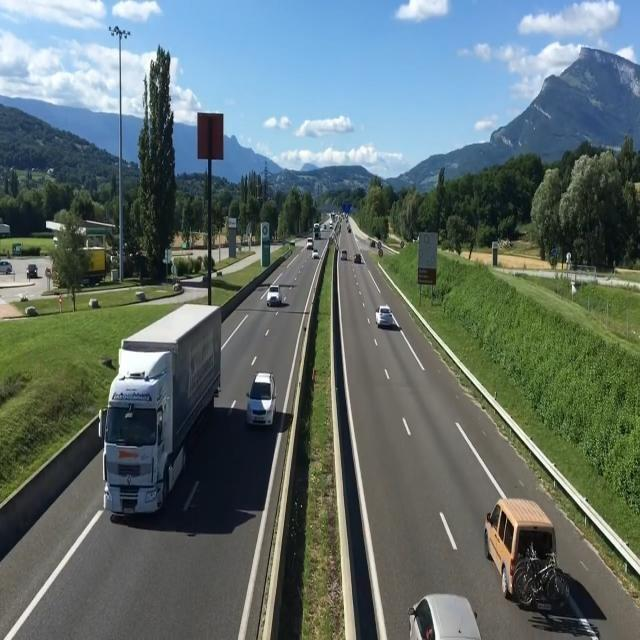Car: (408, 594, 482, 640), (247, 371, 277, 429), (375, 306, 393, 328), (266, 284, 281, 305), (354, 254, 362, 262)
Truck: (101, 300, 222, 520)
Van: (484, 498, 566, 609)
